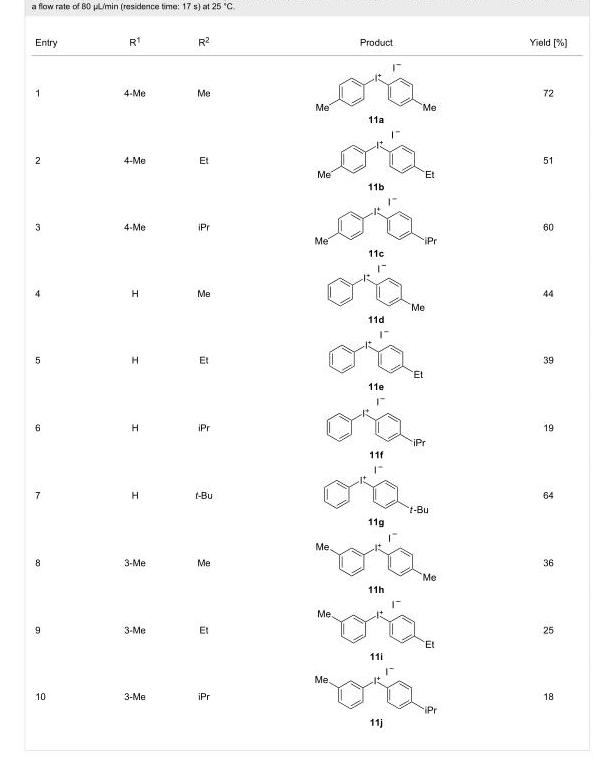table: (34, 34, 566, 726)
table column: (285, 34, 460, 726), (169, 34, 285, 726), (460, 34, 566, 726), (89, 34, 169, 726), (34, 34, 89, 726)
table row: (34, 66, 566, 139), (34, 406, 566, 474), (34, 139, 566, 206), (34, 272, 566, 339), (34, 339, 566, 406), (34, 474, 566, 541), (34, 541, 566, 608), (34, 608, 566, 675), (34, 206, 566, 272), (34, 675, 566, 726), (34, 34, 566, 66)
